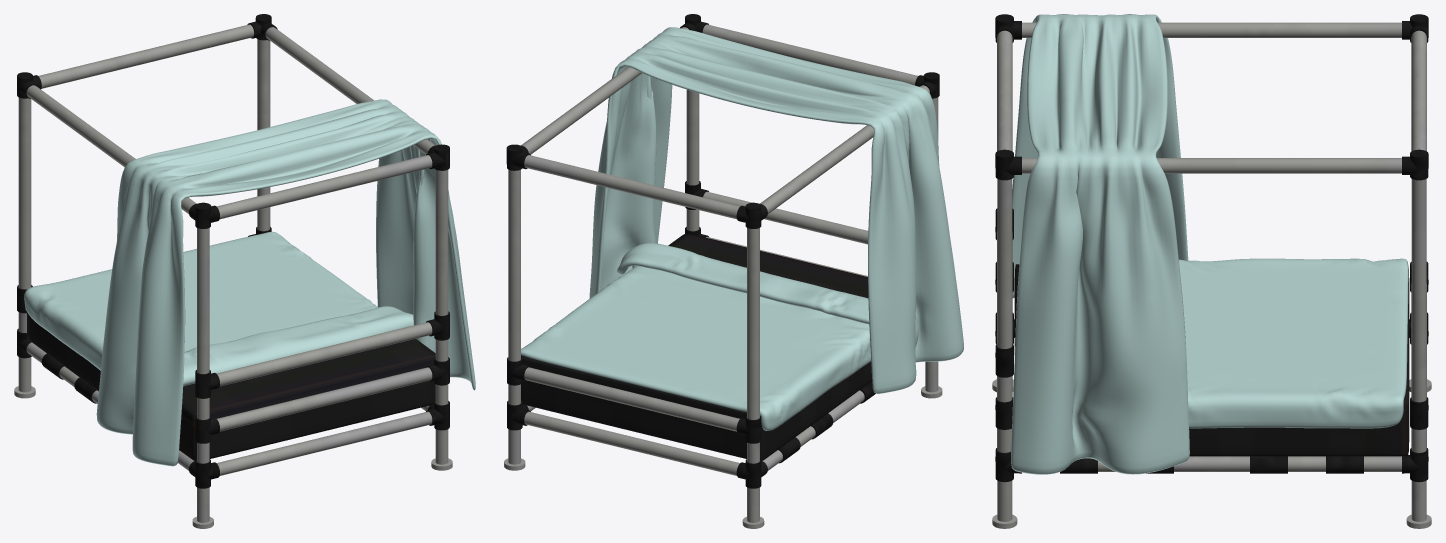
The model's file is Bed30.glb.
3 views of the same model, side by side, from view 1: azimuth 30°, elevation 25°; view 2: azimuth 150°, elevation 25°; view 3: azimuth 270°, elevation 25° (orthographic). The views are drawn at different scales.
Visible parts, largest first — view 1: Curtain30, BedFrame30, Blanket30, Mattress30; view 2: Curtain30, Blanket30, BedFrame30, Mattress30; view 3: Curtain30, Blanket30, BedFrame30, Mattress30.
Part boxes in pixels (x1=…): Curtain30: x1=96, y1=99, x2=475, y2=466; BedFrame30: x1=14, y1=14, x2=452, y2=528; Blanket30: x1=24, y1=231, x2=413, y2=386; Mattress30: x1=27, y1=312, x2=435, y2=460; Curtain30: x1=589, y1=27, x2=963, y2=393; Blanket30: x1=521, y1=243, x2=871, y2=430; BedFrame30: x1=504, y1=14, x2=942, y2=528; Mattress30: x1=521, y1=233, x2=872, y2=461; Curtain30: x1=1011, y1=14, x2=1189, y2=474; Blanket30: x1=1179, y1=258, x2=1408, y2=428; BedFrame30: x1=992, y1=14, x2=1431, y2=528; Mattress30: x1=1014, y1=264, x2=1409, y2=456.
Bounding box in the file's own units: 5.84 × 5.44 × 5.77.
Materials: 3 (3 with a texture image).
